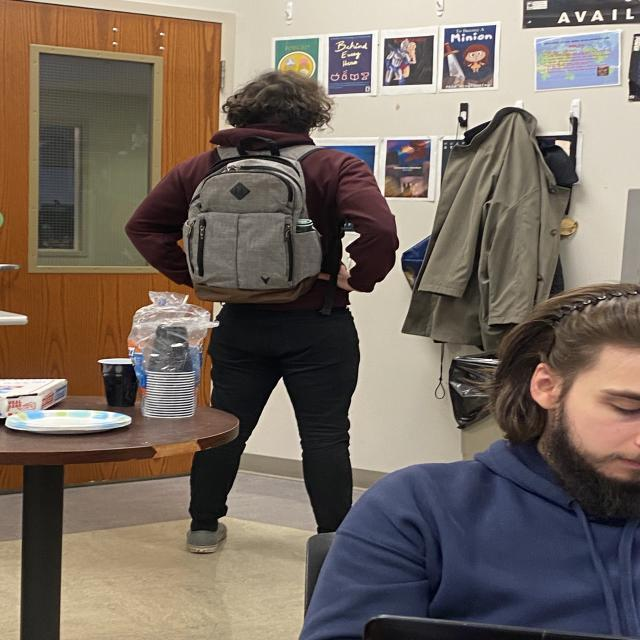Backpacks: (177, 158, 327, 296)
